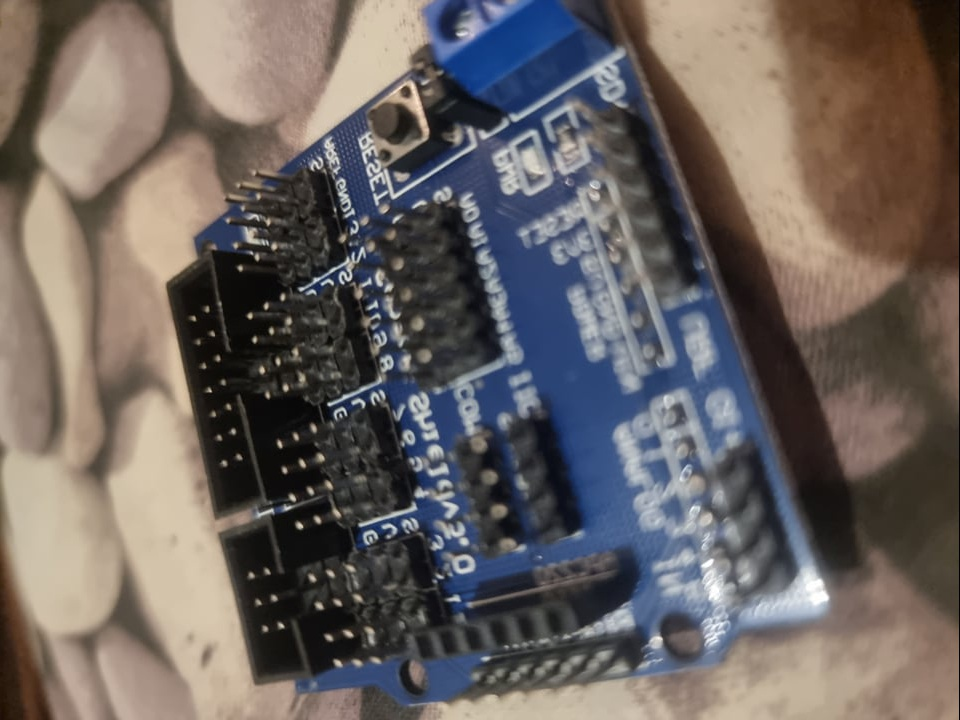5V EXPANSION: (167, 1, 838, 703)
